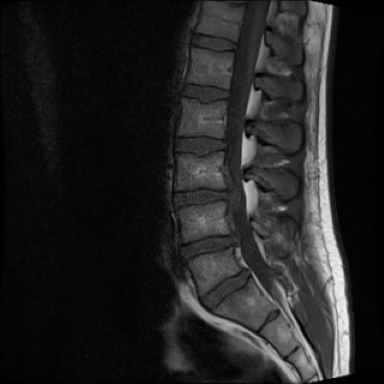Lumbar Disc Bulge (LDB): (197, 259, 257, 316), (174, 224, 247, 266), (169, 179, 247, 213)
Normal IVD: (168, 128, 228, 159), (171, 80, 233, 107), (184, 29, 239, 55)
Spinal Stenosis (SS): (215, 175, 258, 217), (227, 262, 264, 289), (218, 227, 248, 251)
